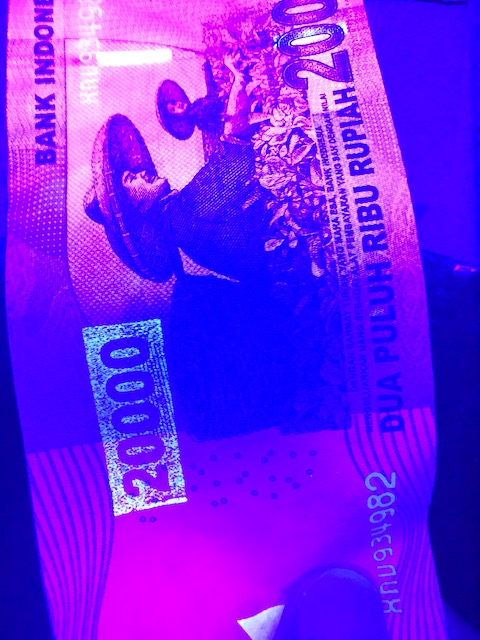20_RIBU_ASLI: (79, 319, 190, 515)
